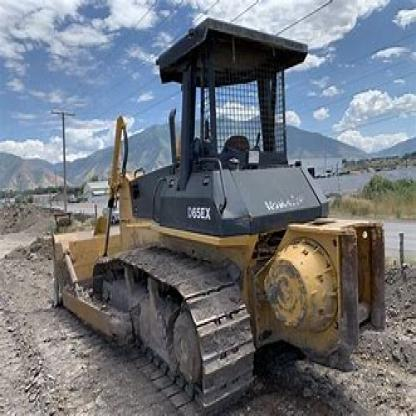bull_dozer/loader/grader: (42, 8, 398, 411)
